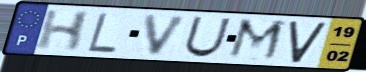H: (33, 9, 94, 53)
L: (85, 11, 119, 54)
M: (224, 17, 290, 63)
U: (182, 15, 234, 58)
V: (143, 13, 192, 58), (288, 20, 330, 64)
